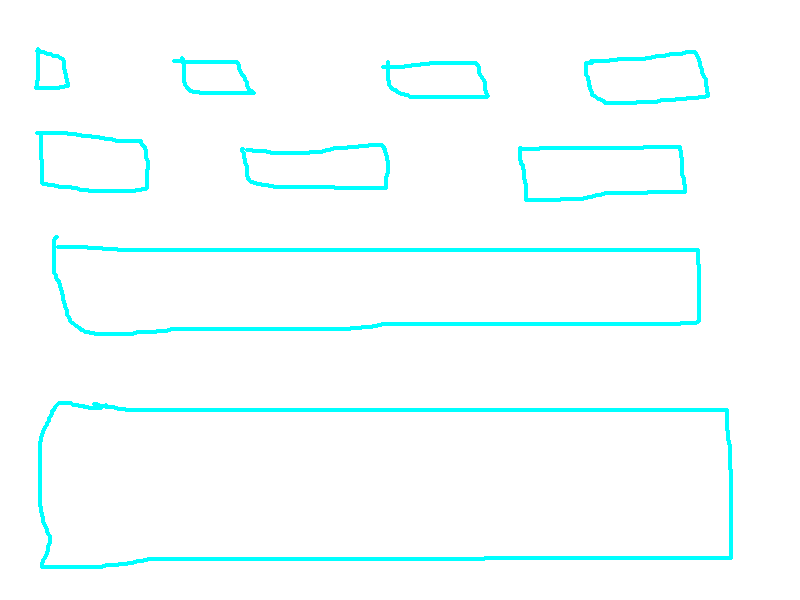rect: (33, 393, 744, 575), (46, 232, 712, 338), (513, 138, 691, 207), (28, 125, 159, 198), (232, 141, 392, 195), (577, 48, 716, 105), (379, 56, 494, 106), (171, 54, 257, 101), (26, 48, 73, 97)
